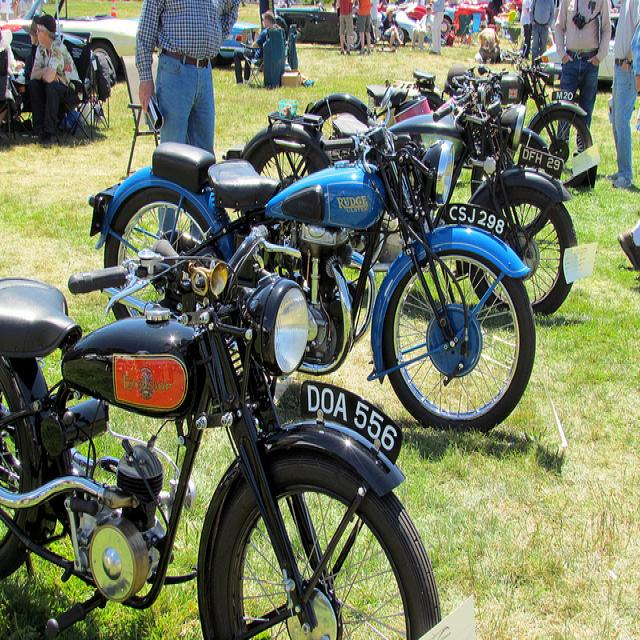motor: (1, 204, 444, 633), (86, 90, 537, 433), (232, 62, 584, 317), (519, 62, 595, 157), (398, 110, 468, 193)
